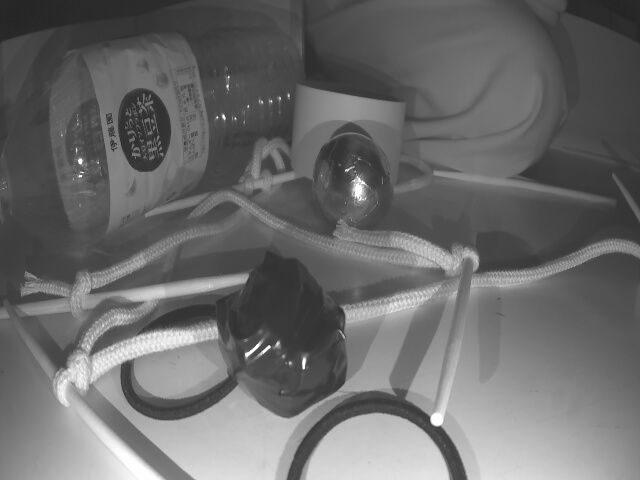Dead: (216, 260, 352, 419)
Live: (313, 135, 393, 233)
